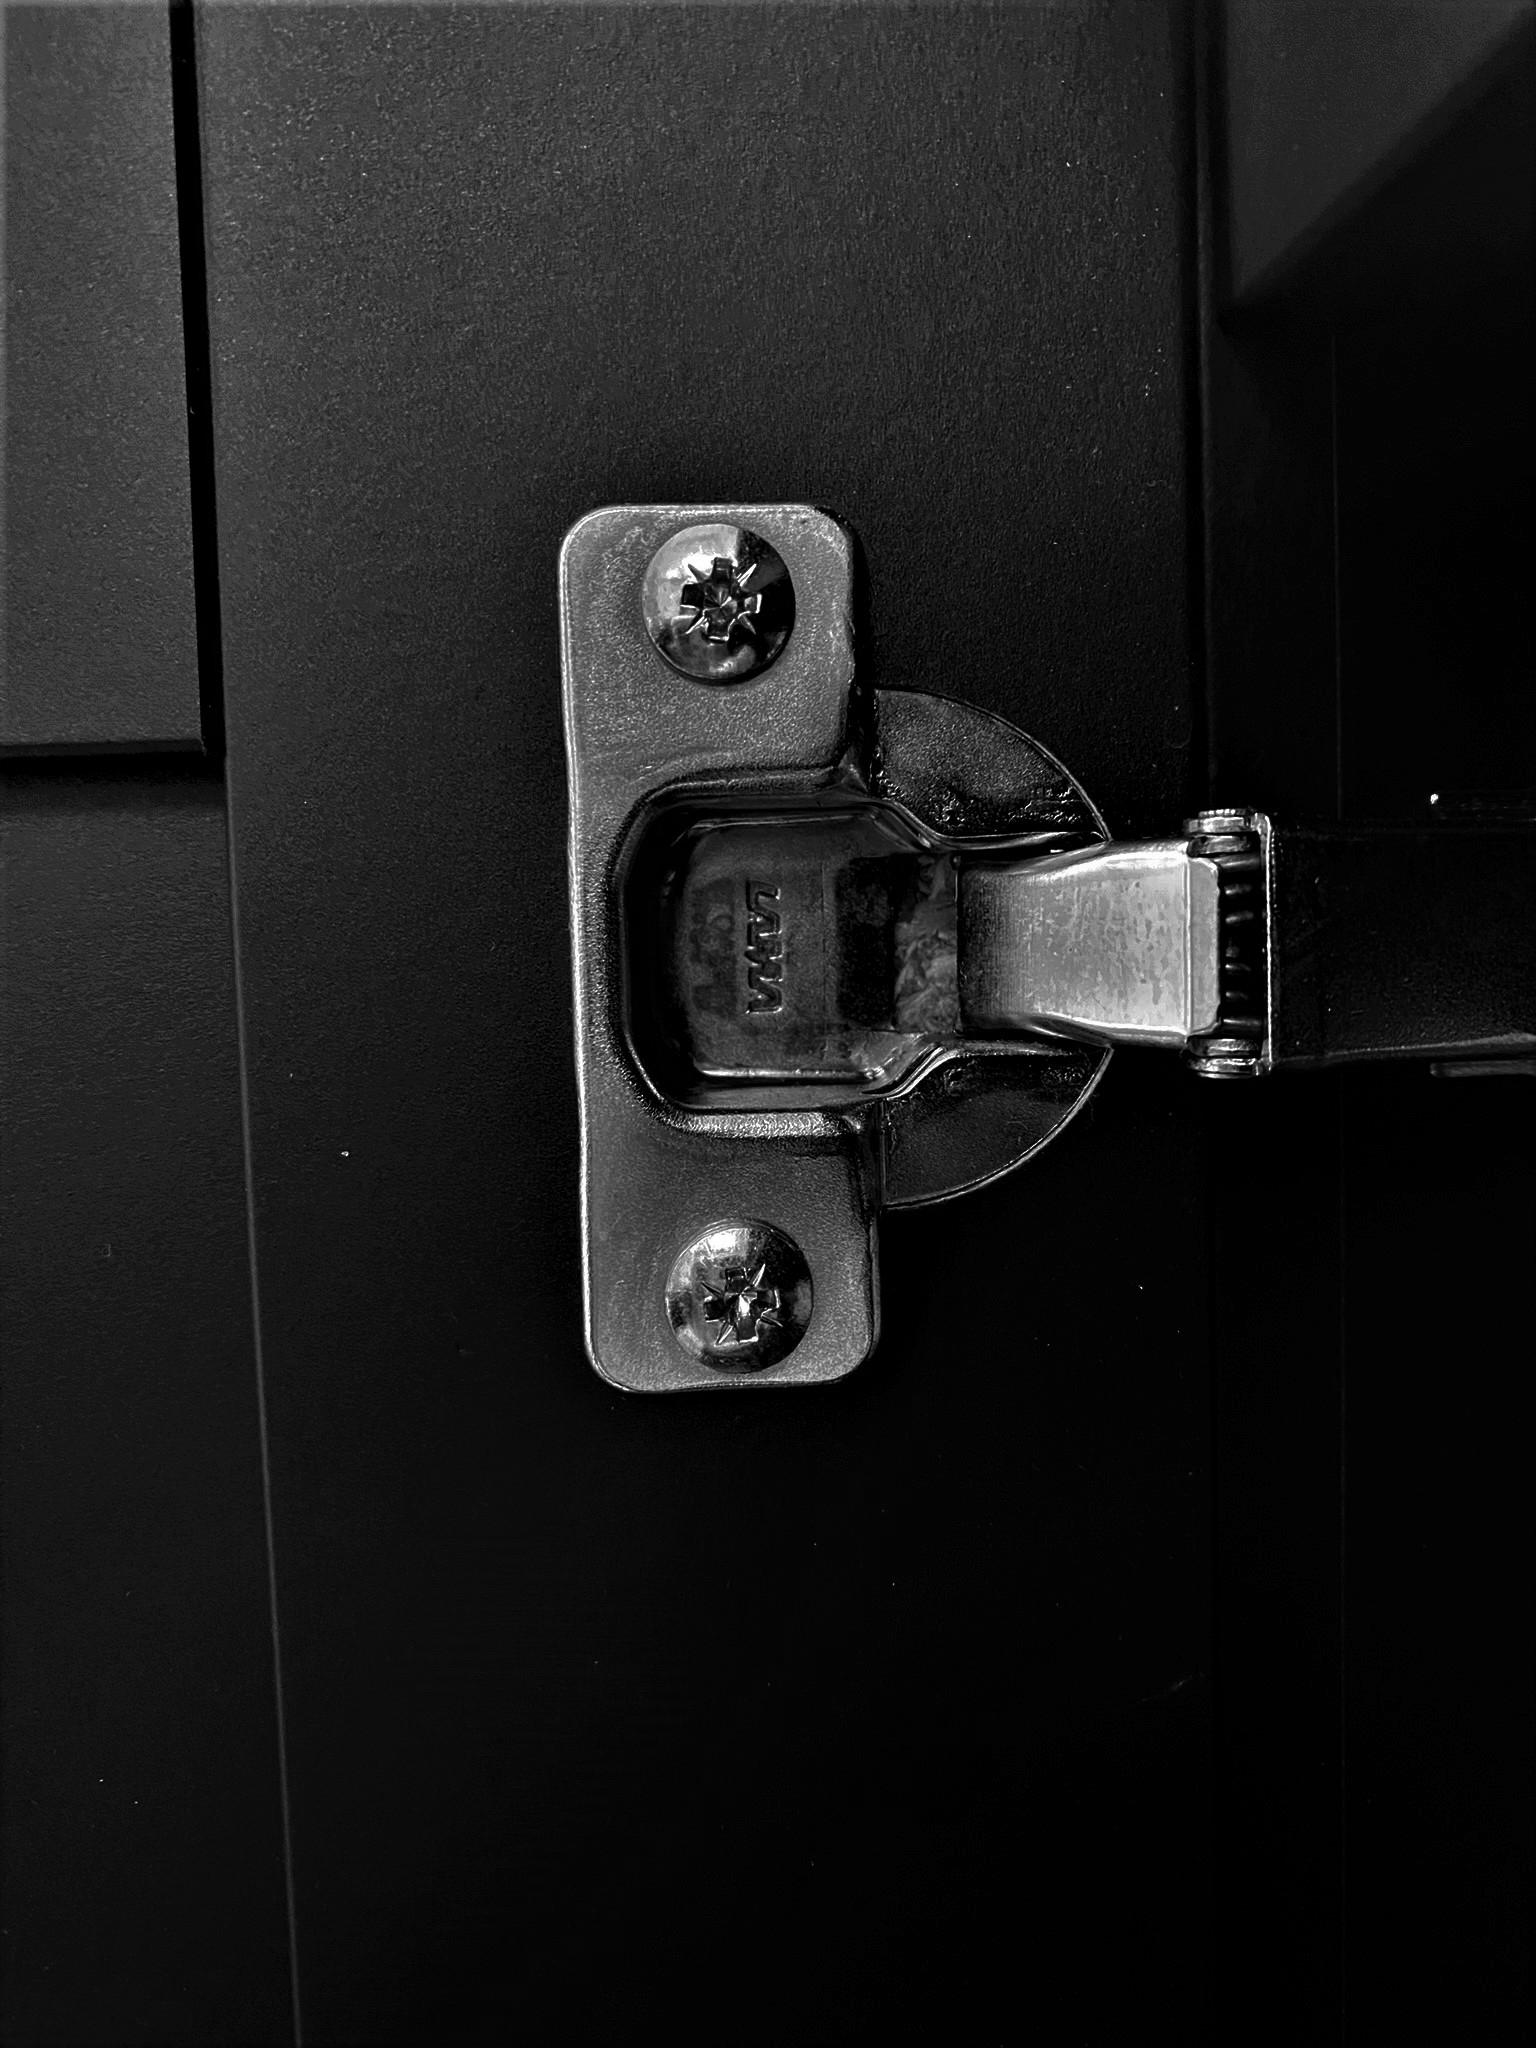screw: (637, 522, 802, 690), (666, 1218, 820, 1374)
